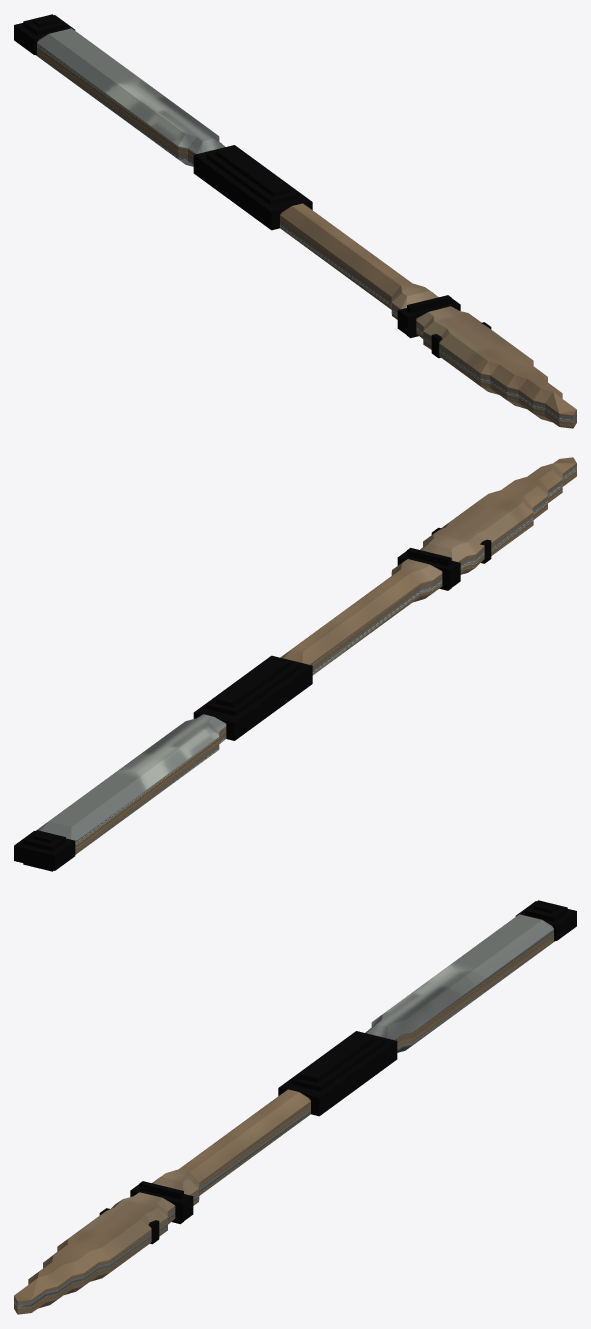
Rendered from militia_spear.obj.
3 views of the same model, one above another, from view 1: azimuth 30°, elevation 25°; view 2: azimuth 150°, elevation 25°; view 3: azimuth 330°, elevation 25° (orthographic).
Parts seen in each view (by area): view 1: militia_spear; view 2: militia_spear; view 3: militia_spear.
Boxes of the visible parts, x1,y1,x2,y2 form: militia_spear: (14,14,576,428); militia_spear: (14,457,576,871); militia_spear: (14,900,576,1314).
Bounding box in the file's own units: 0.0938 × 0.0625 × 1.66.
